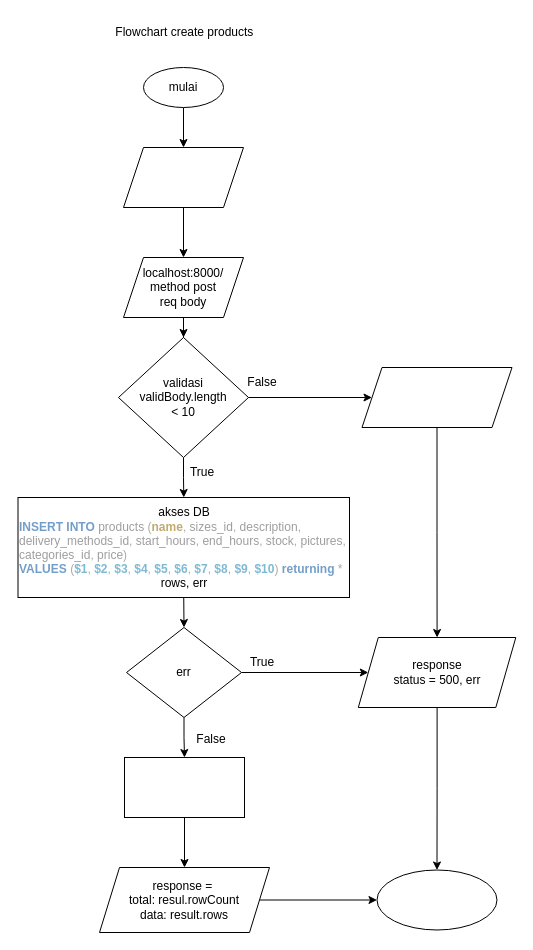
This 533x950 diagram has some shape labels left out. Each missing label, with the centre of its shape:
/products: the point at 183,177
Body must contain complete data !: the point at 436,397
const response: the point at 184,787
selesai: the point at 436,899
